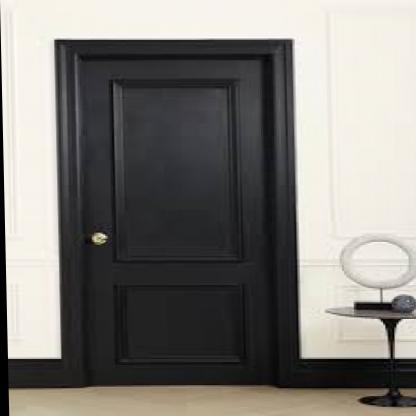door: (61, 48, 280, 382)
